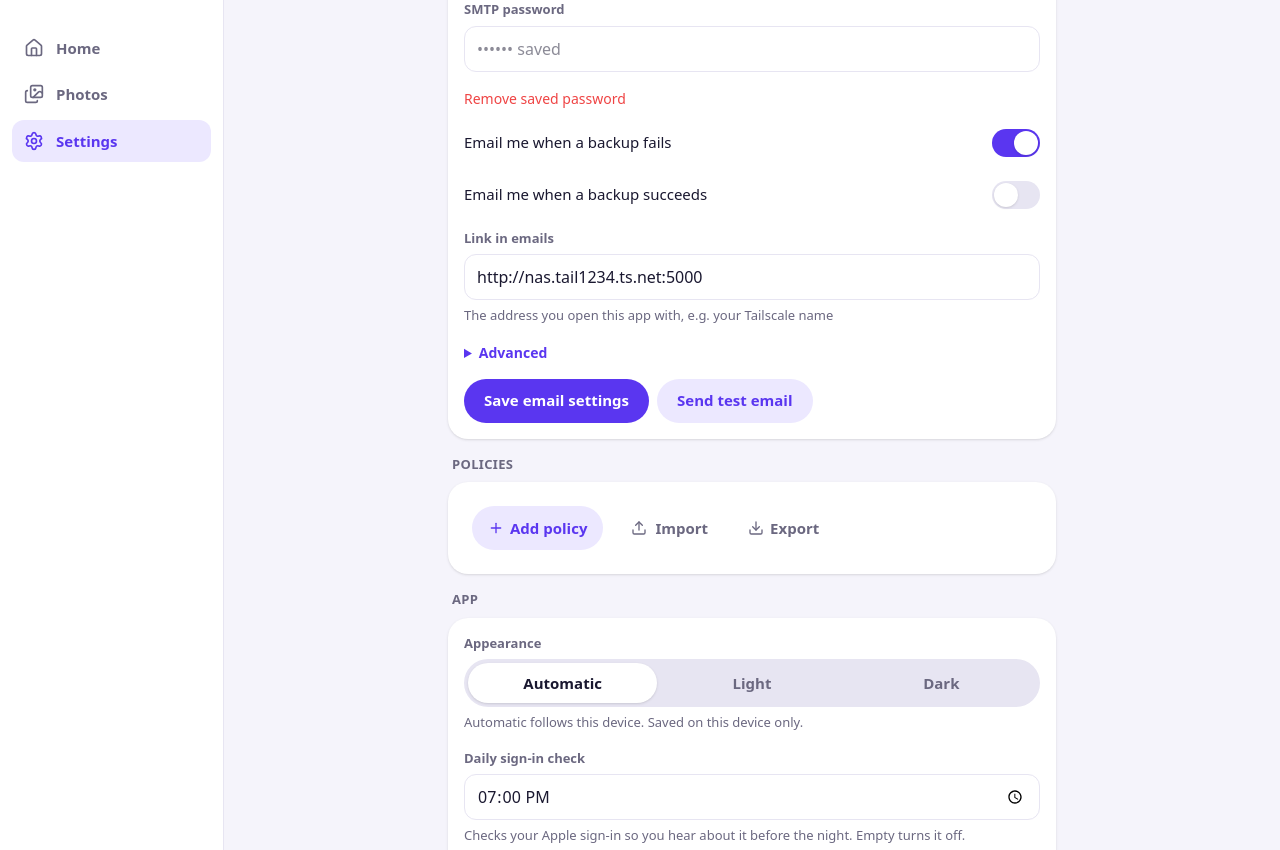
Scenario: untouched SMTP password is sent as null
(page scrolled)
Click the button "Save email settings": {"x": 557, "y": 400} [464,378,649,422]
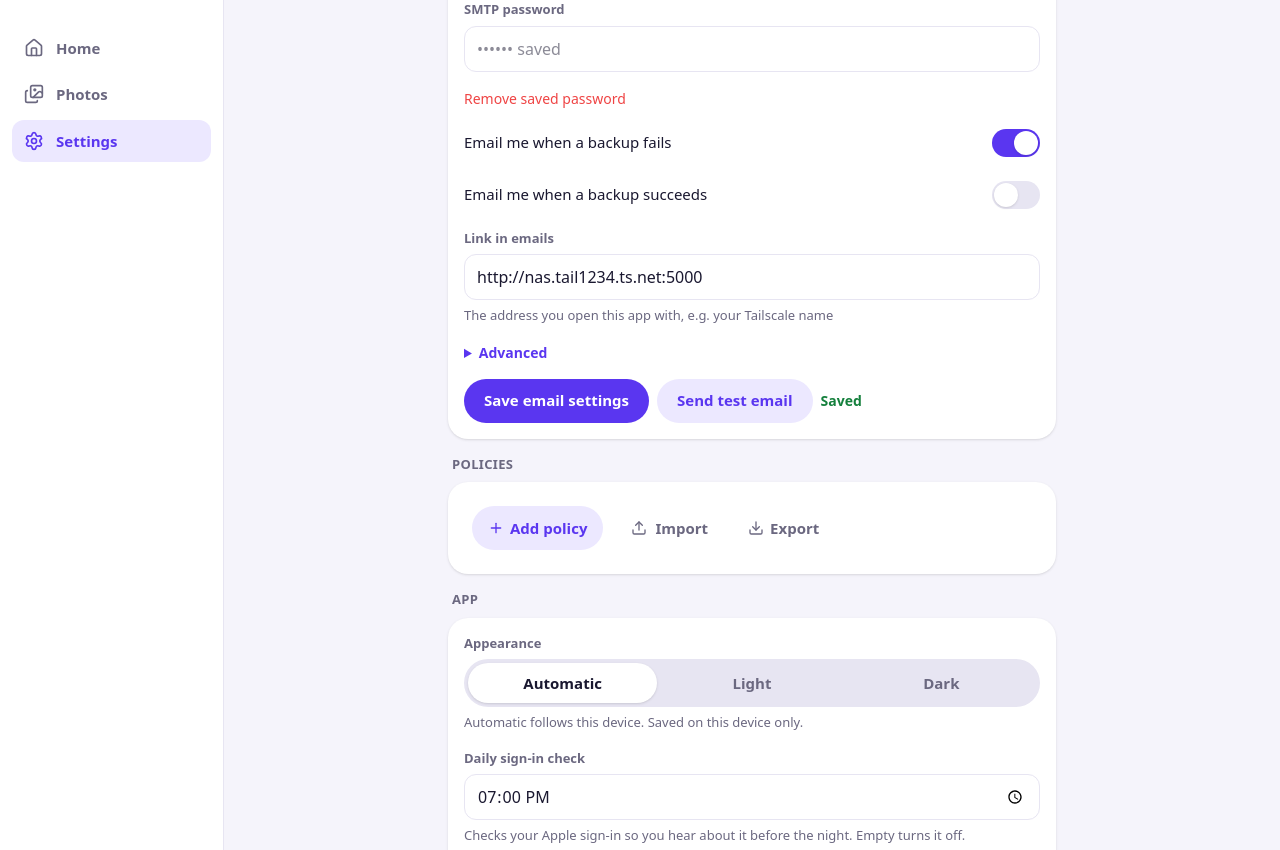
Result: the text "Saved" is shown at [820,390,862,411]
